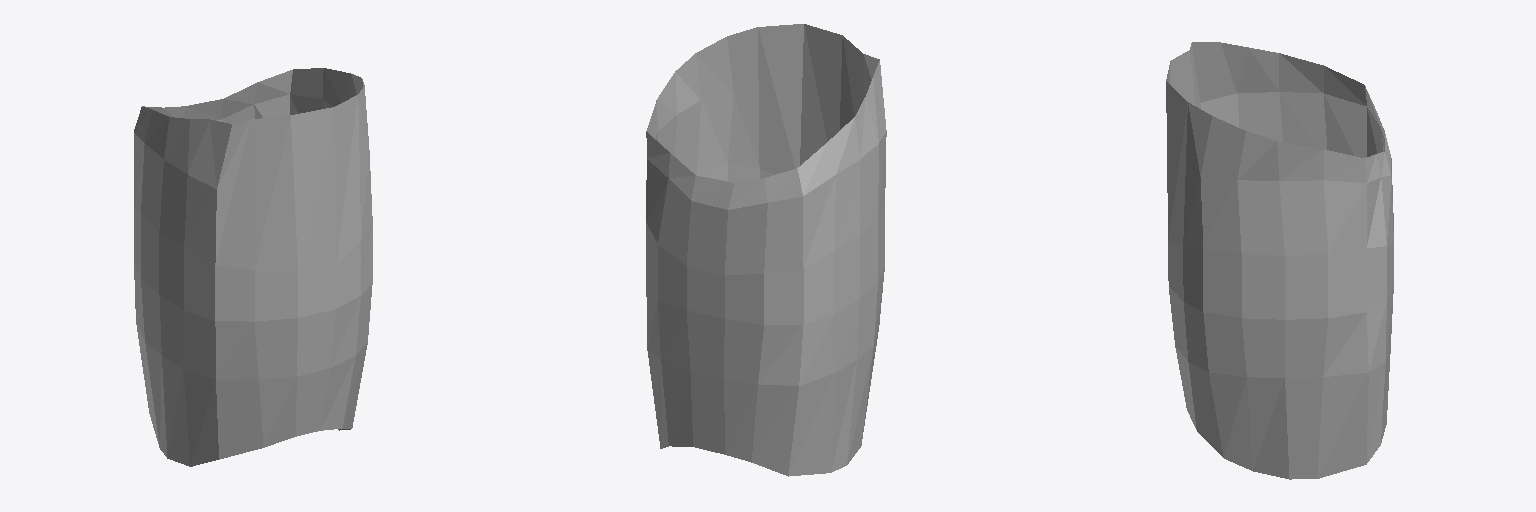
The model's file is rightLeg2Cover.obj.
3 views of the same model, side by side, from view 1: azimuth 30°, elevation 25°; view 2: azimuth 150°, elevation 25°; view 3: azimuth 270°, elevation 25° (orthographic).
Visible parts, largest first — view 1: unnamed_object1; view 2: unnamed_object1; view 3: unnamed_object1.
Boxes of the visible parts, x1=… form: unnamed_object1: x1=134, y1=68, x2=372, y2=466; unnamed_object1: x1=646, y1=24, x2=886, y2=476; unnamed_object1: x1=1166, y1=42, x2=1393, y2=479.
Bounding box in the file's own units: 12.17 × 22.94 × 12.76.